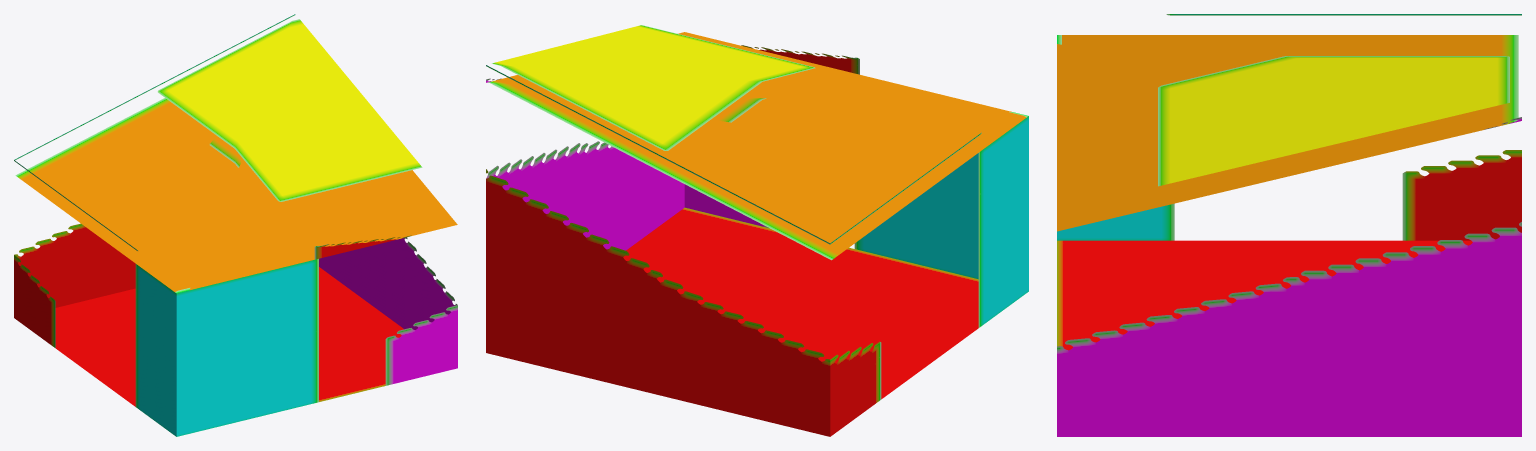
The model's file is house06_02.FBX.
3 renders of one model, left to right at view 1: azimuth 30°, elevation 25°; view 2: azimuth 150°, elevation 25°; view 3: azimuth 270°, elevation 25°, orthographic. The views are drawn at different scales.
Visible parts, largest first — view 1: House06_roof, House06_base_02; view 2: House06_base_02, House06_roof; view 3: House06_base_02, House06_roof.
Boxes of the visible parts, x1=… form: House06_roof: x1=14, y1=14, x2=457, y2=291; House06_base_02: x1=14, y1=135, x2=457, y2=436; House06_base_02: x1=486, y1=97, x2=1028, y2=436; House06_roof: x1=486, y1=25, x2=1026, y2=260; House06_base_02: x1=1057, y1=35, x2=1521, y2=436; House06_roof: x1=1057, y1=14, x2=1521, y2=231.
Bounding box in the file's own units: 100 × 80 × 100.
Materials: 2 (2 with a texture image).
